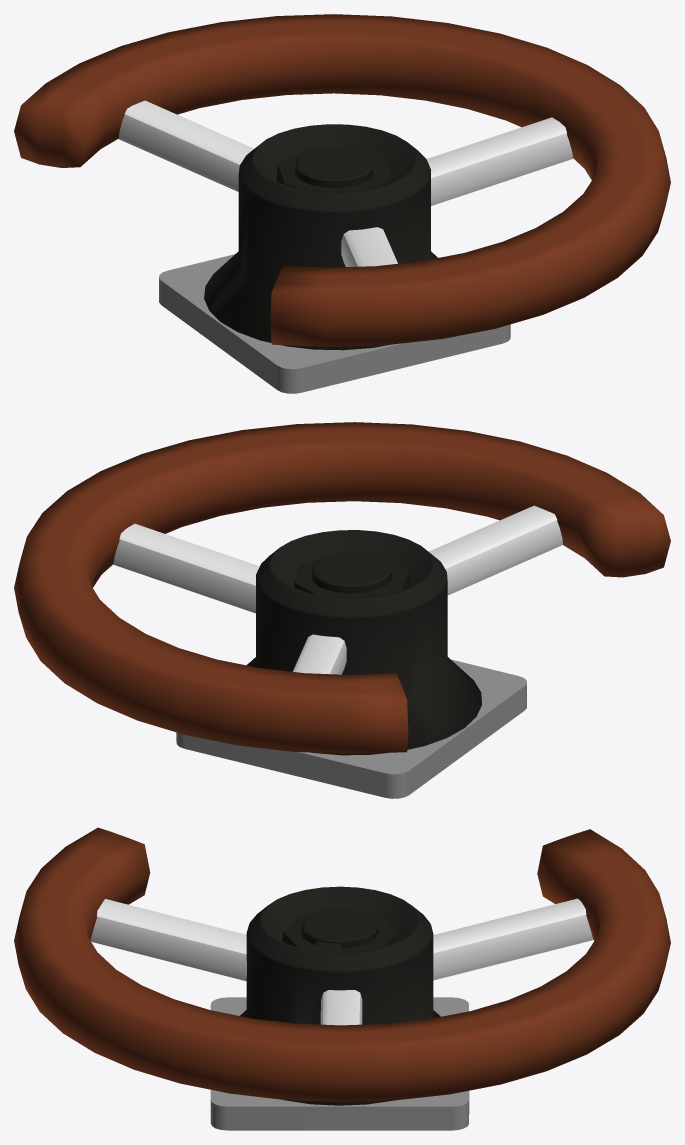
The model's file is WheelBuque.fbx.
The picture shows the model from 3 angles, top to bottom: view 1: azimuth 30°, elevation 25°; view 2: azimuth 150°, elevation 25°; view 3: azimuth 270°, elevation 25°; orthographic projection. The views are drawn at different scales.
Visible parts, largest first — view 1: Wheel, WheelPlate; view 2: Wheel, WheelPlate; view 3: Wheel, WheelPlate.
Part boxes in pixels (<box>): Wheel: <box>14,14,670,350</box>; WheelPlate: <box>159,254,510,393</box>; Wheel: <box>14,422,670,755</box>; WheelPlate: <box>176,659,526,798</box>; Wheel: <box>14,827,670,1105</box>; WheelPlate: <box>210,997,469,1130</box>.
Bounding box in the file's own units: 26.74 × 8.71 × 32.44.
